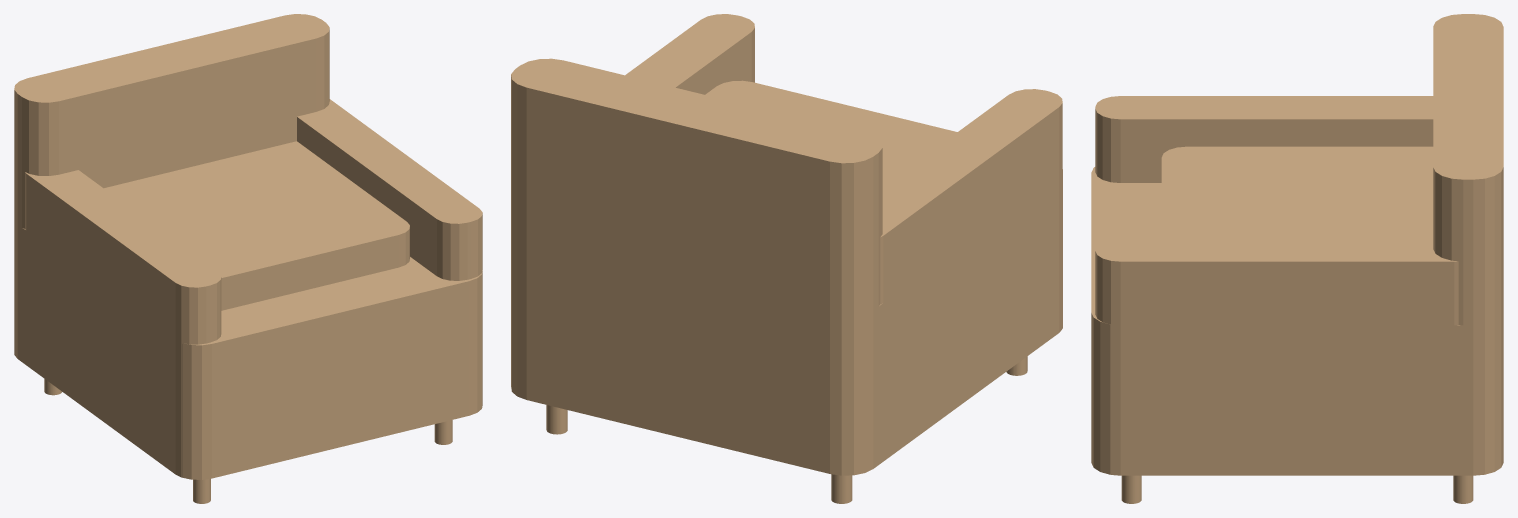
The model's file is edith-armchair-tan-leather.glb.
The picture shows the model from 3 angles, left to right: view 1: azimuth 30°, elevation 25°; view 2: azimuth 150°, elevation 25°; view 3: azimuth 270°, elevation 25°; orthographic projection. The views are drawn at different scales.
Visible parts, largest first — view 1: geometry_0; view 2: geometry_0; view 3: geometry_0.
Part boxes in pixels (x1,y1,x2,y2): geometry_0: (14,14,482,503); geometry_0: (511,14,1062,503); geometry_0: (1091,14,1503,503).
Bounding box in the file's own units: 0.78 × 0.74 × 0.82.
